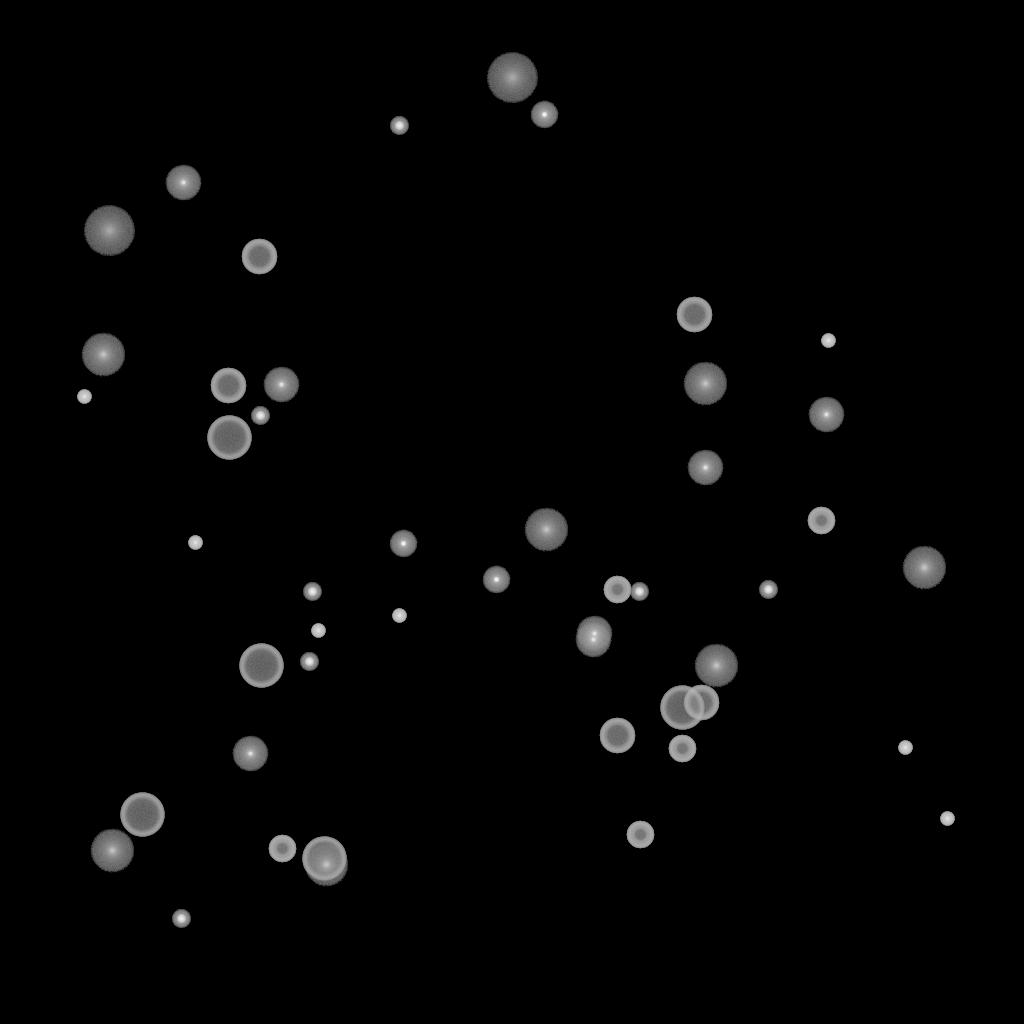depth:-10: (389, 530, 417, 558), (482, 566, 510, 594), (530, 101, 558, 129)
depth:-20: (390, 117, 408, 135), (251, 407, 269, 425), (630, 583, 648, 601), (172, 910, 190, 928), (759, 581, 777, 599), (303, 583, 321, 601), (300, 653, 318, 671)
depth:-30: (940, 812, 954, 826), (311, 624, 325, 638), (77, 390, 91, 404), (821, 334, 835, 348), (898, 741, 912, 755), (188, 536, 202, 550), (392, 609, 406, 623)
depth:-50: (268, 835, 296, 863), (807, 507, 835, 535), (603, 576, 631, 604), (668, 735, 696, 763), (626, 821, 654, 849)
depth:-60: (676, 297, 712, 333), (210, 368, 246, 404), (683, 685, 719, 721), (599, 718, 635, 754), (241, 239, 277, 275)
depth:-70: (302, 837, 346, 881), (207, 416, 251, 460), (660, 686, 704, 730), (239, 644, 283, 688), (120, 793, 164, 837)
depth:0: (165, 165, 201, 201), (808, 397, 844, 433), (687, 450, 723, 486), (576, 616, 612, 652), (575, 622, 611, 658), (232, 736, 268, 772), (263, 367, 299, 403)
depth:10: (694, 644, 738, 688), (902, 546, 946, 590), (90, 829, 134, 873), (683, 362, 727, 406), (524, 508, 568, 552), (304, 843, 348, 887), (81, 333, 125, 377)
depth:20: (486, 53, 538, 103), (83, 206, 135, 256)
